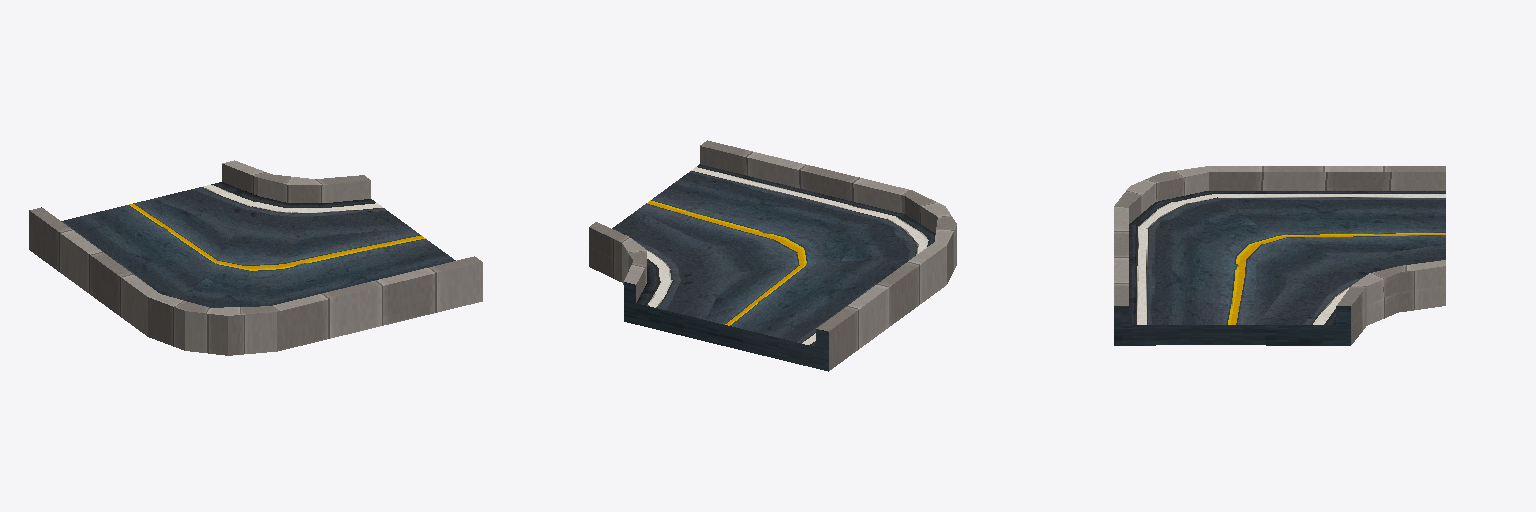
The picture shows the model from 3 angles: view 1: azimuth 30°, elevation 25°; view 2: azimuth 150°, elevation 25°; view 3: azimuth 270°, elevation 25°; orthographic projection.
Visible parts, largest first — view 1: Cube.001; view 2: Cube.001; view 3: Cube.001.
Part boxes in pixels (bbox=[...]): Cube.001: bbox=[29, 160, 482, 355]; Cube.001: bbox=[589, 140, 956, 371]; Cube.001: bbox=[1114, 166, 1445, 345].
Size of the model in its own units: 1.96 by 0.26 by 1.96.
1 materials, 1 textured.